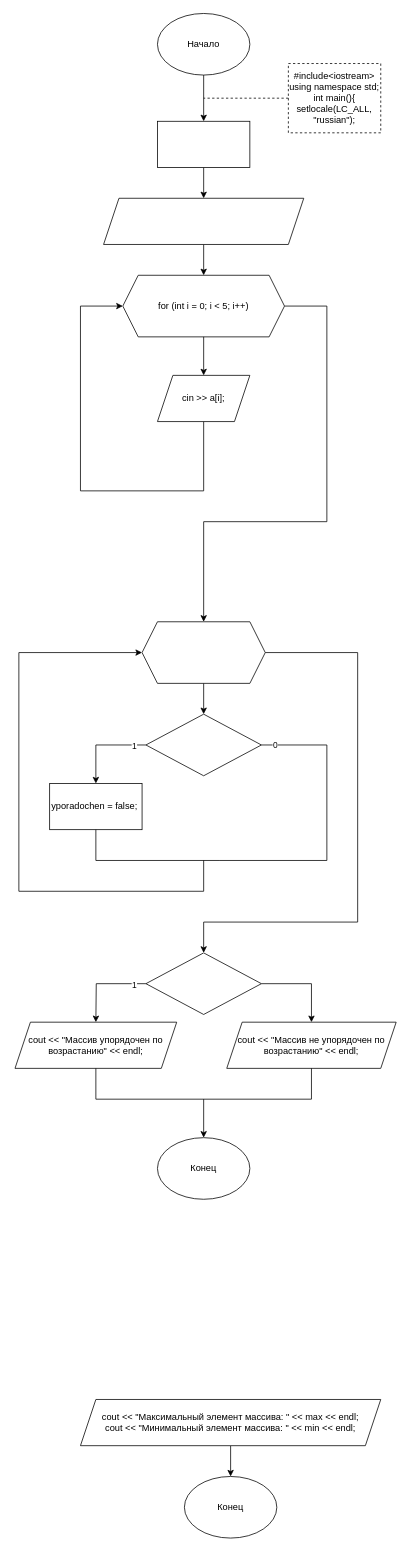
Some shapes in this 410 by 1552 pixel diagram are drawn without their labels. Each missing label, with the centre of its shape:
cout << "Введите 5 элементов массива: ";: point (203, 221)
for (int i = 1; i < 5; i++): point (203, 652)
if (a[i] < a[i - 1]): point (203, 744)
if (yporadochen): point (203, 983)
int a[5]; bool yporadochen = true;: point (203, 144)
